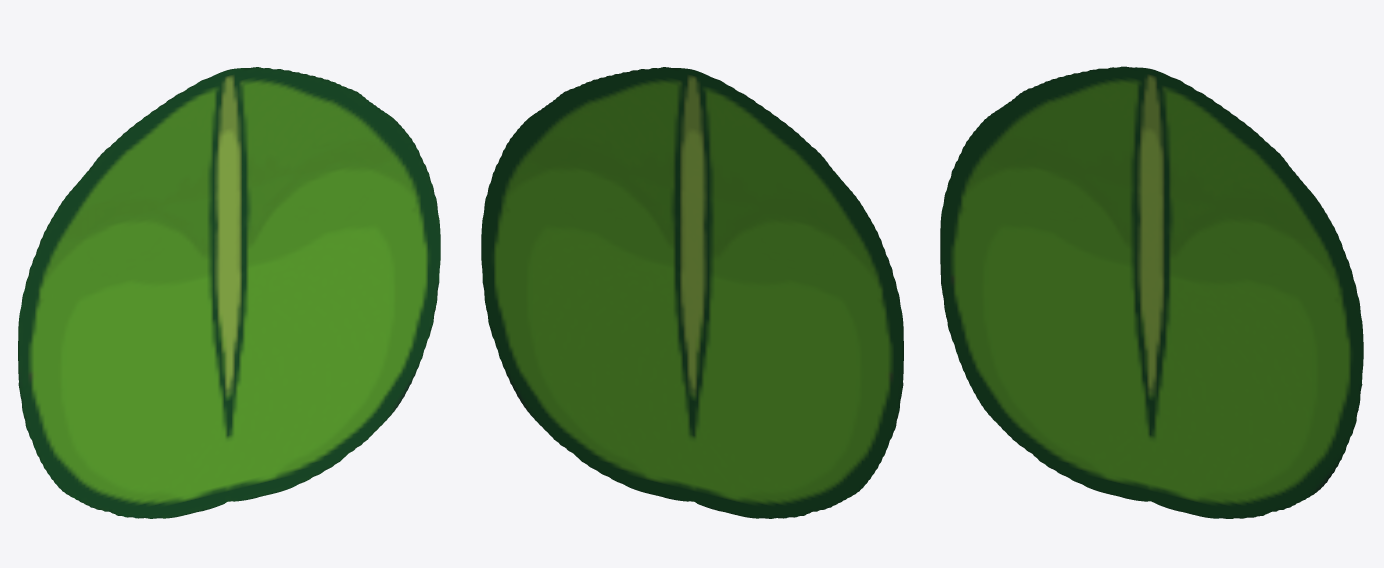
File: HojaQ.fbx
3 views of the same model, side by side, from view 1: azimuth 30°, elevation 25°; view 2: azimuth 150°, elevation 25°; view 3: azimuth 330°, elevation 25° (orthographic).
Parts seen in each view (by area): view 1: HojaQ; view 2: HojaQ; view 3: HojaQ.
Part boxes in pixels (left/top/right/bottom): HojaQ: left=18, top=67, right=440, bottom=518; HojaQ: left=481, top=67, right=903, bottom=518; HojaQ: left=940, top=66, right=1363, bottom=518.
Size of the model in its own units: 0.5902 by 0.5804 by 2.54e-08.
